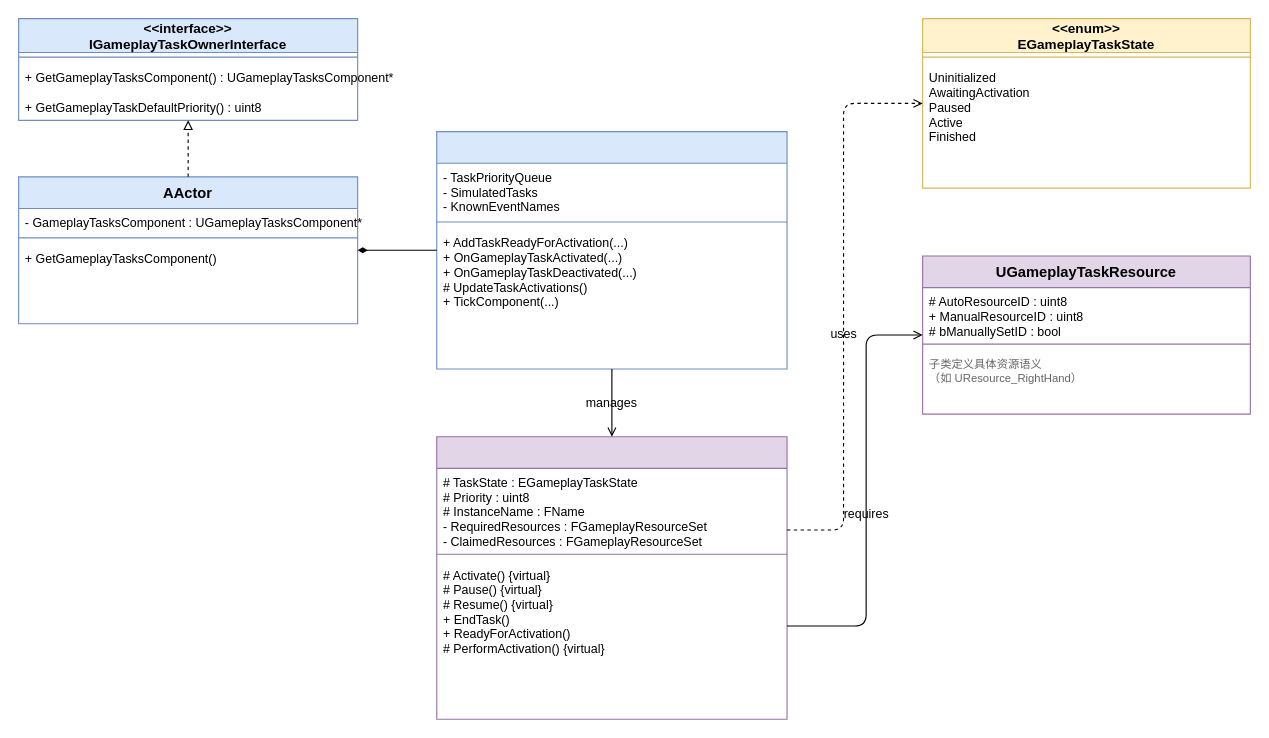
Some shapes in this 1269 by 738 pixel diagram are drawn without their labels. The shapes that lost their labels are listed below. From the top down, each one's box as (x1, y1, x2, y2) in pixels, then its label:
(436, 131, 787, 369): UGameplayTasksComponent
(436, 436, 787, 719): UGameplayTask
